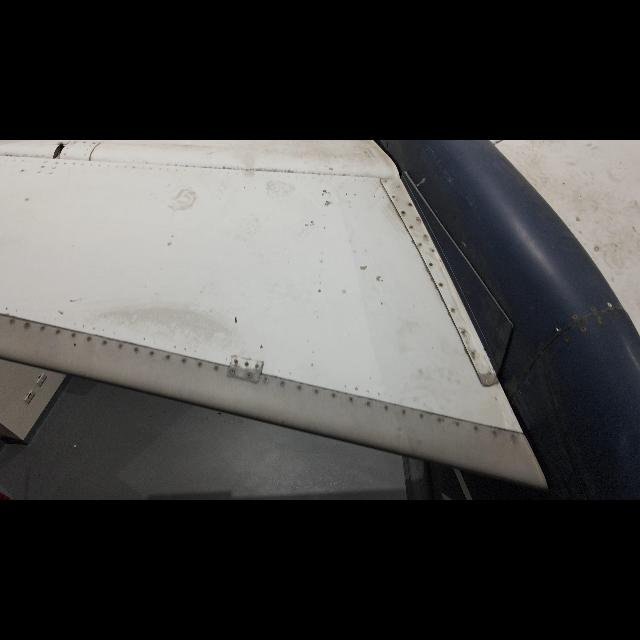Missing Fastener: (553, 322, 563, 333), (527, 378, 533, 384)
